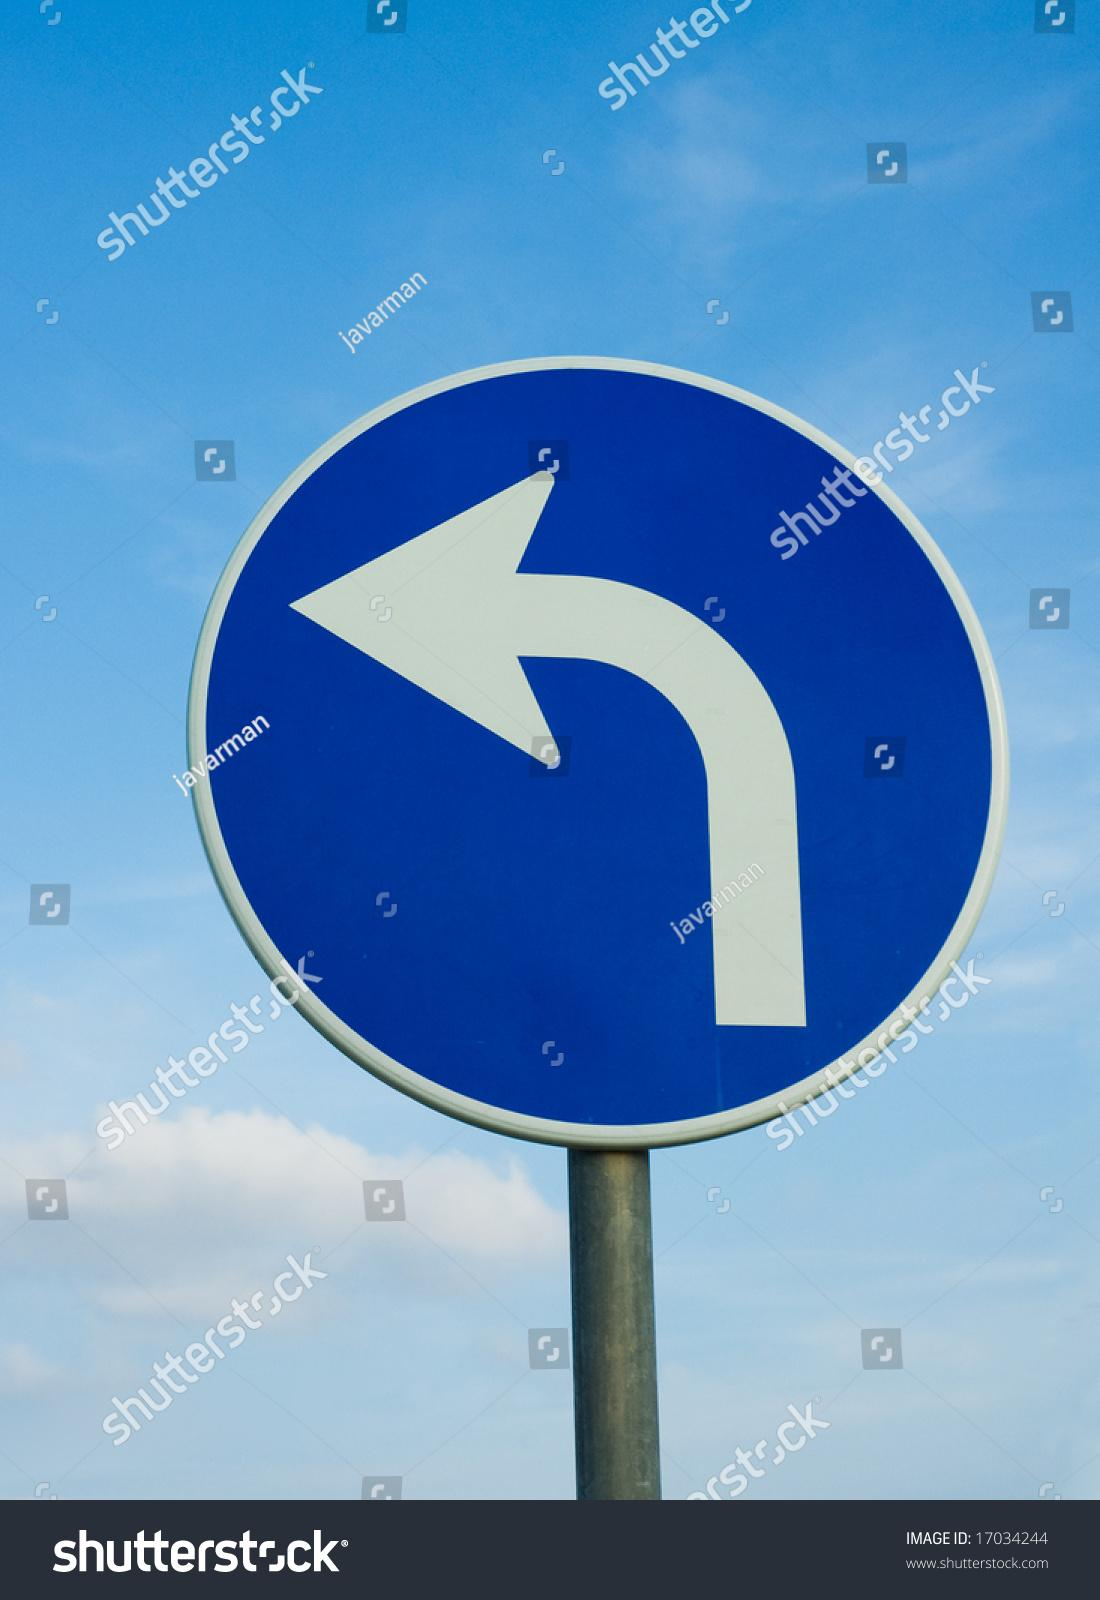Left hand curve: (197, 327, 1032, 1151)
